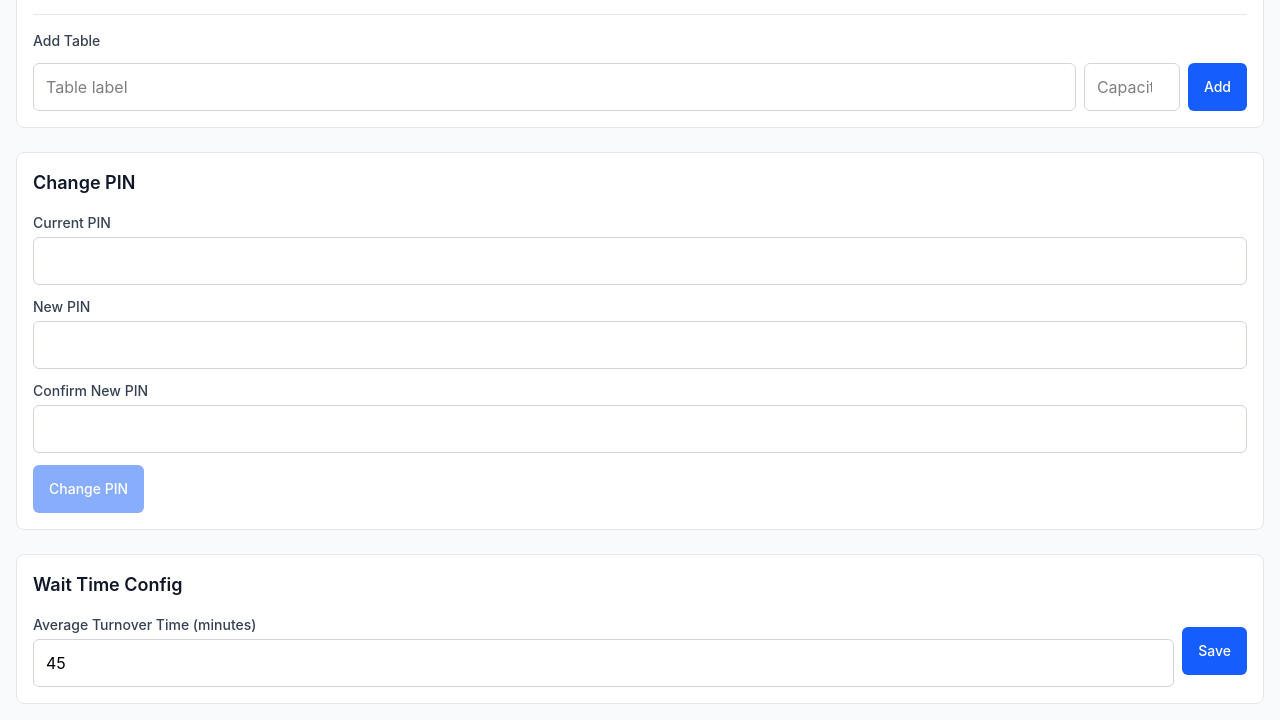
Test case: ManagerSettings › Wait Time Config section › shows validation error for value below 5
(page scrolled)
Replace the text in the number field labelled "Average Turnover Time (minutes)" with "3" at (604, 663), box x1=33 y1=639 x2=1174 y2=687
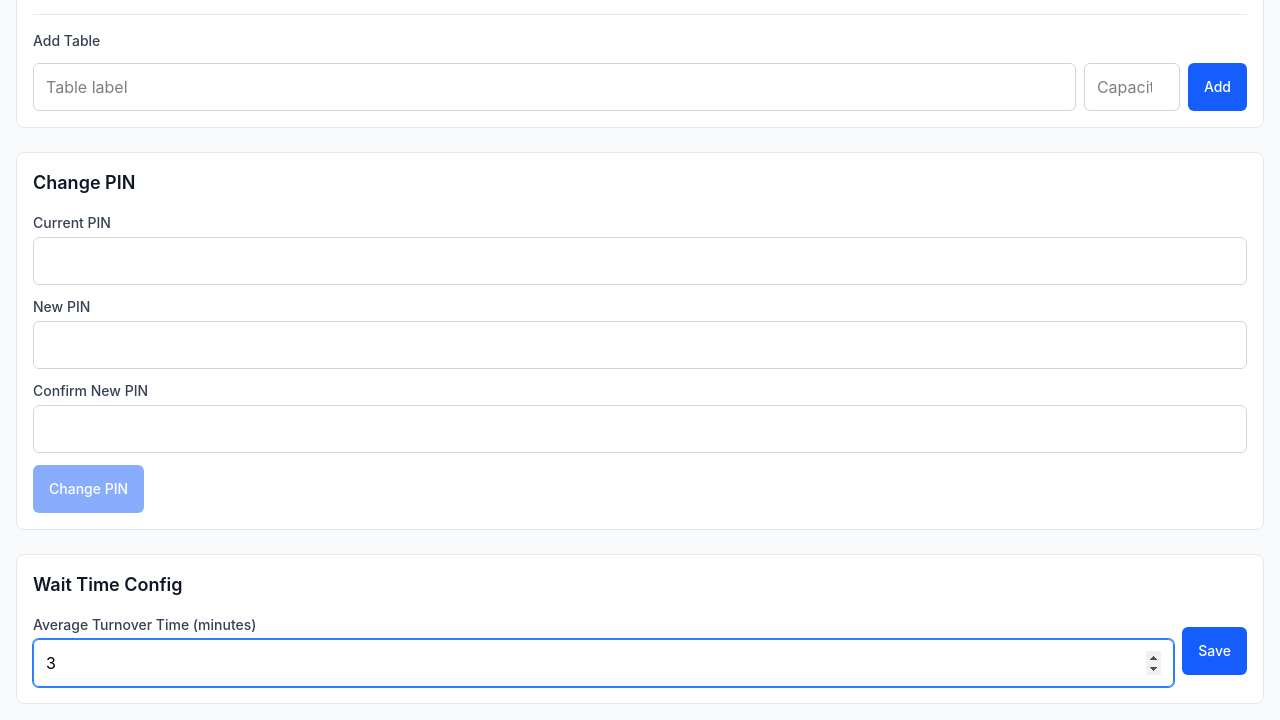
Submit the form labelled "Average Turnover Time (minutes) Save", box x1=33 y1=615 x2=1247 y2=687
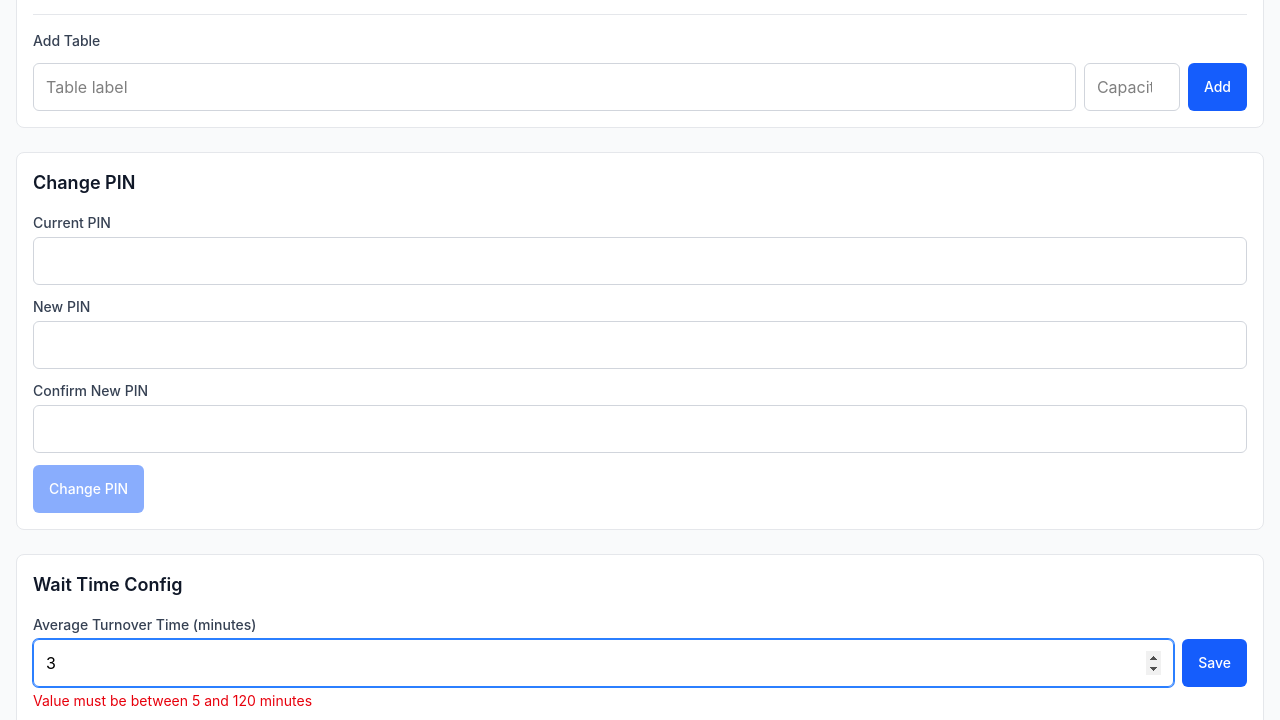
Check: the text "Value must be between 5 and 120 minutes" is shown, box x1=33 y1=692 x2=312 y2=709
